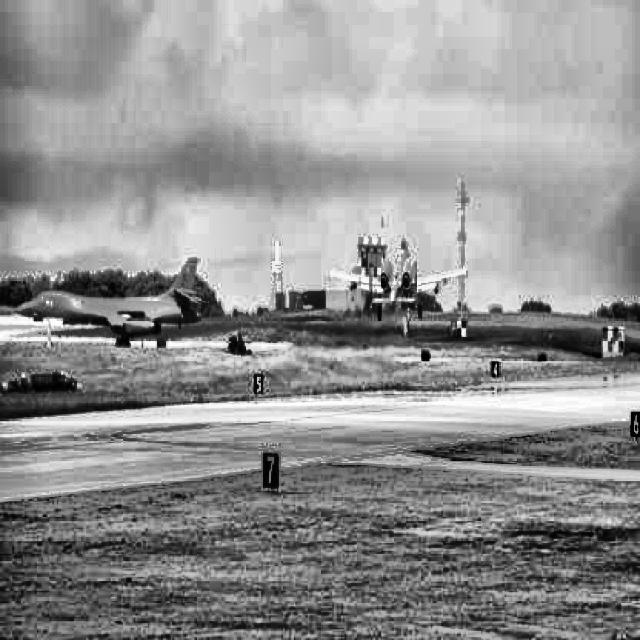A10: (329, 238, 468, 320)
B1: (15, 258, 207, 347)
